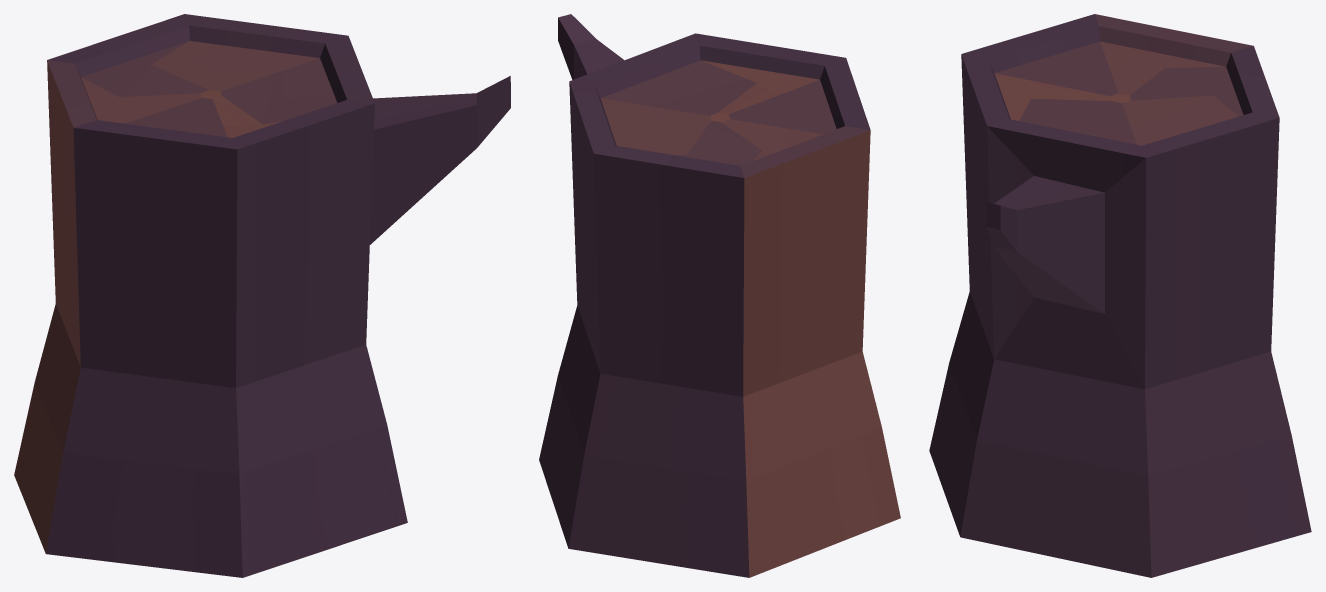
File: Garden_Stump01.fbx
The picture shows the model from 3 angles, left to right: view 1: azimuth 30°, elevation 25°; view 2: azimuth 150°, elevation 25°; view 3: azimuth 270°, elevation 25°; orthographic projection. The views are drawn at different scales.
Visible parts, largest first — view 1: TolTreeTrunk4; view 2: TolTreeTrunk4; view 3: TolTreeTrunk4.
Part boxes in pixels (x1,y1,x2,y2): TolTreeTrunk4: (14, 14, 510, 577); TolTreeTrunk4: (539, 14, 900, 577); TolTreeTrunk4: (929, 14, 1311, 577).
Bounding box in the file's own units: 48.67 × 47.98 × 39.59.
